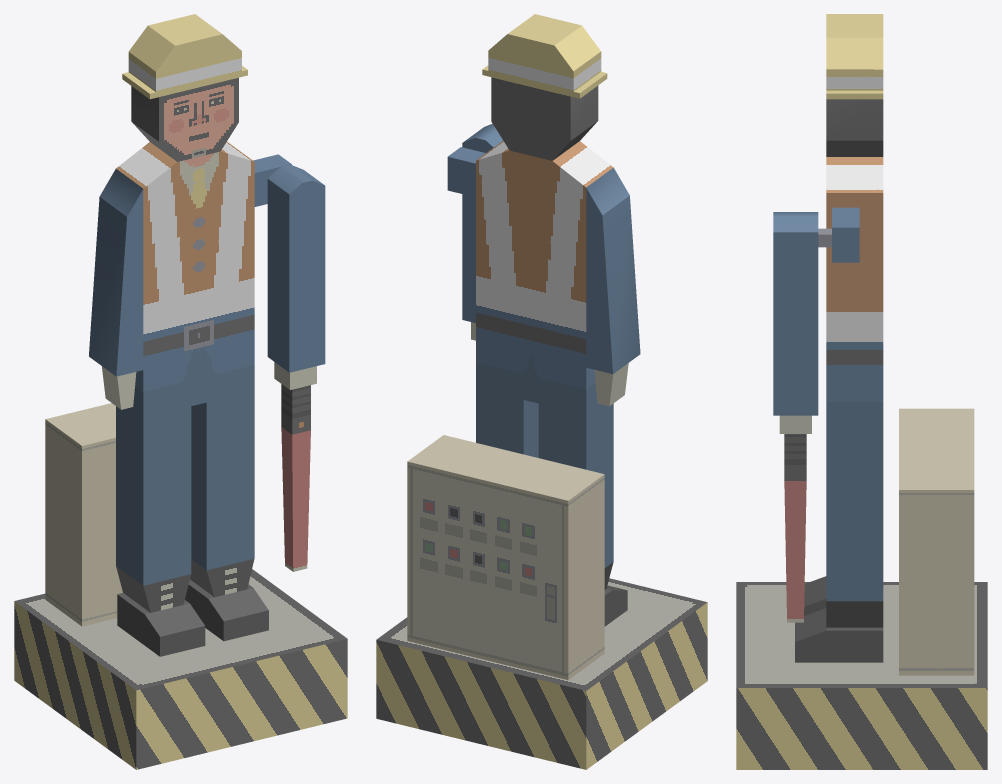
Rendered from 0072_Traffic_Dummy.glb.
3 renders of one model, left to right at view 1: azimuth 30°, elevation 25°; view 2: azimuth 150°, elevation 25°; view 3: azimuth 270°, elevation 25°, orthographic. The views are drawn at different scales.
Parts seen in each view (by area): view 1: part_0, part_1; view 2: part_0, part_1; view 3: part_0, part_1.
Boxes of the visible parts, x1,y1,x2,y2 form: part_0: (14,14,347,769); part_1: (267,164,325,571); part_0: (376,14,707,769); part_1: (462,123,502,340); part_0: (736,14,987,769); part_1: (773,212,818,622).
Size of the model in its own units: 0.6444 by 1.96 by 0.6444.
Materials: 2 (2 with a texture image).
